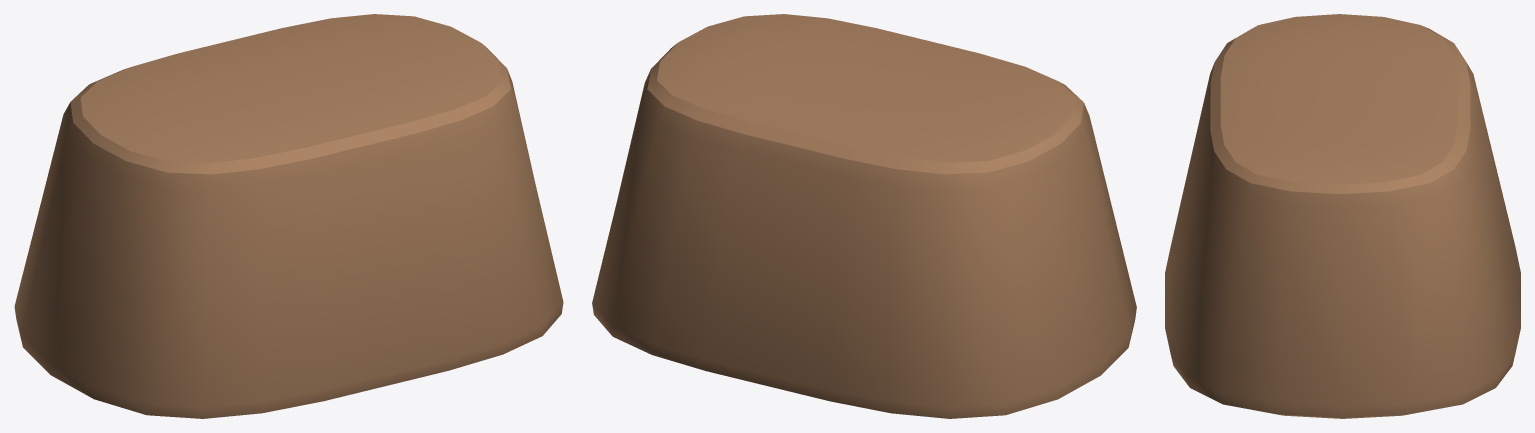
The model's file is RockPlatforms_Large.gltf.
The picture shows the model from 3 angles, left to right: view 1: azimuth 30°, elevation 25°; view 2: azimuth 150°, elevation 25°; view 3: azimuth 270°, elevation 25°; orthographic projection. The views are drawn at different scales.
Parts seen in each view (by area): view 1: RockPlatforms_Large; view 2: RockPlatforms_Large; view 3: RockPlatforms_Large.
Part boxes in pixels (<box>): RockPlatforms_Large: <box>14,14,563,418</box>; RockPlatforms_Large: <box>592,14,1136,418</box>; RockPlatforms_Large: <box>1165,14,1520,418</box>.
Bounding box in the file's own units: 7.38 × 3.63 × 5.16.
